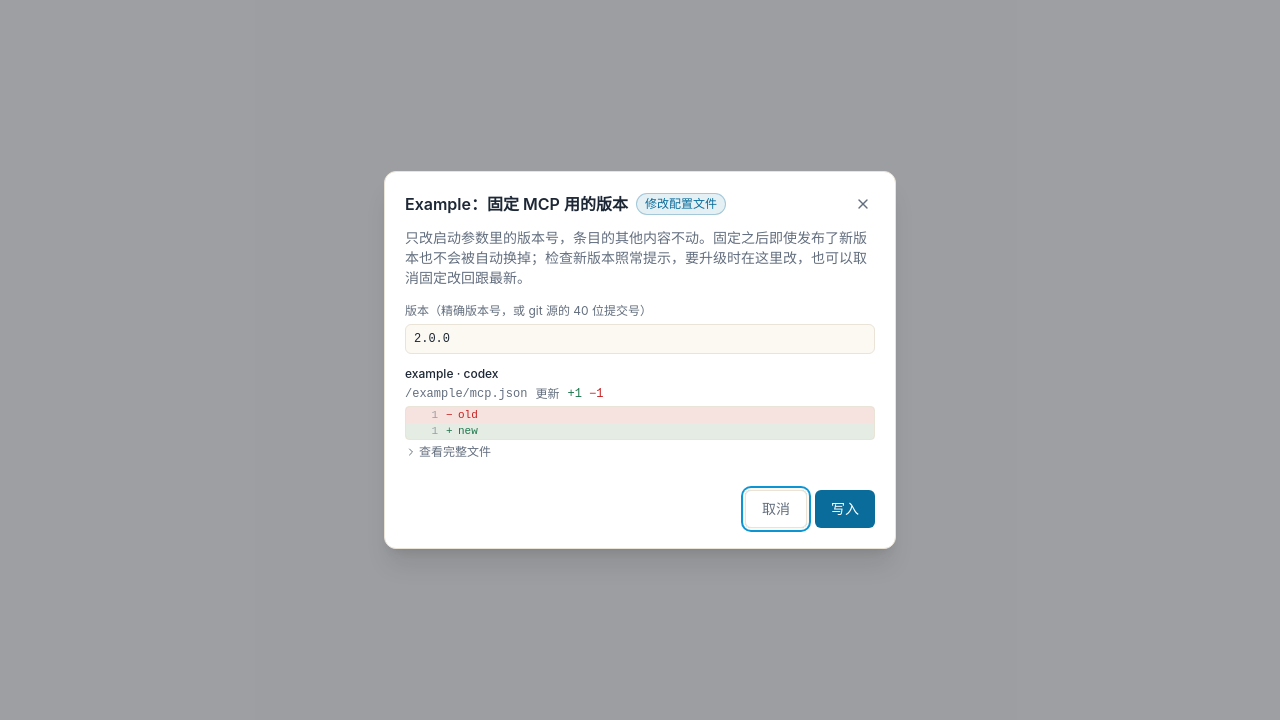
Scenario: program version feedback › does not claim completion when the MCP edit succeeds but its version preference fails
The width and height of the screenshot is (1280, 720).
Click the button with test id "confirm-modal-confirm" at (845, 509), box [815,490,875,528]
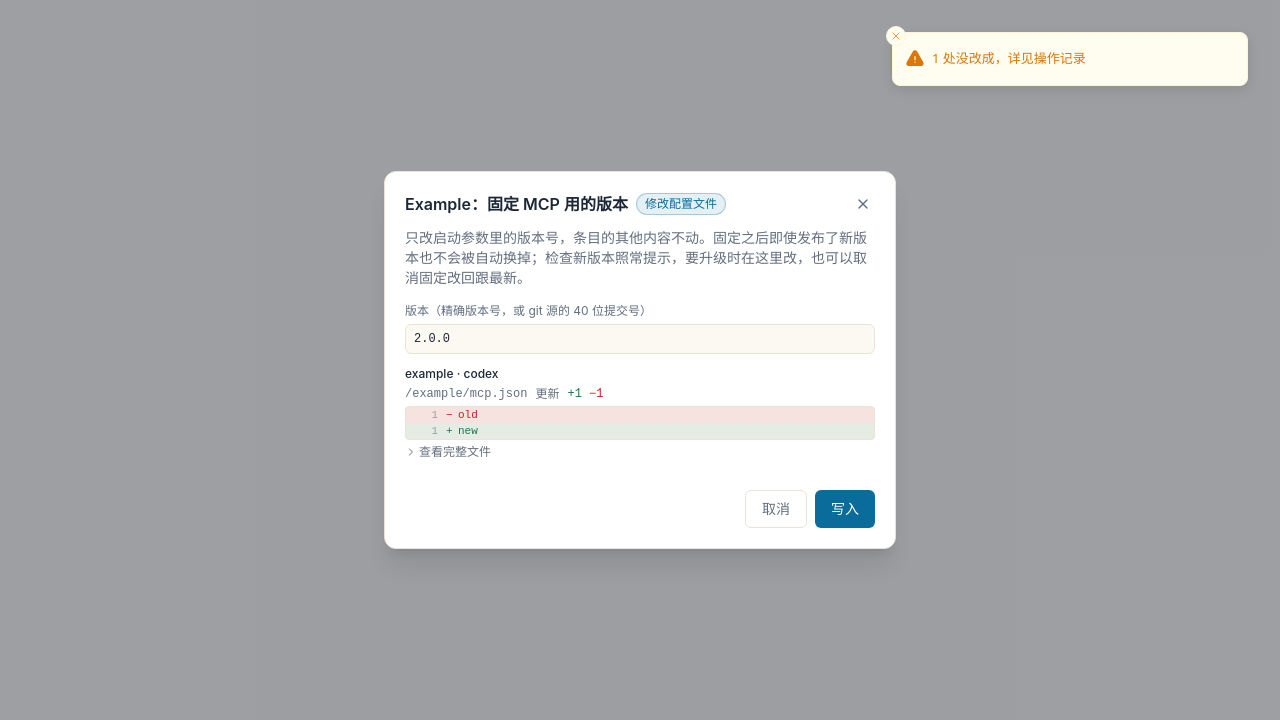
Expected: the list item "1 处没改成，详见操作记录" is shown, [892,32,1248,86]
